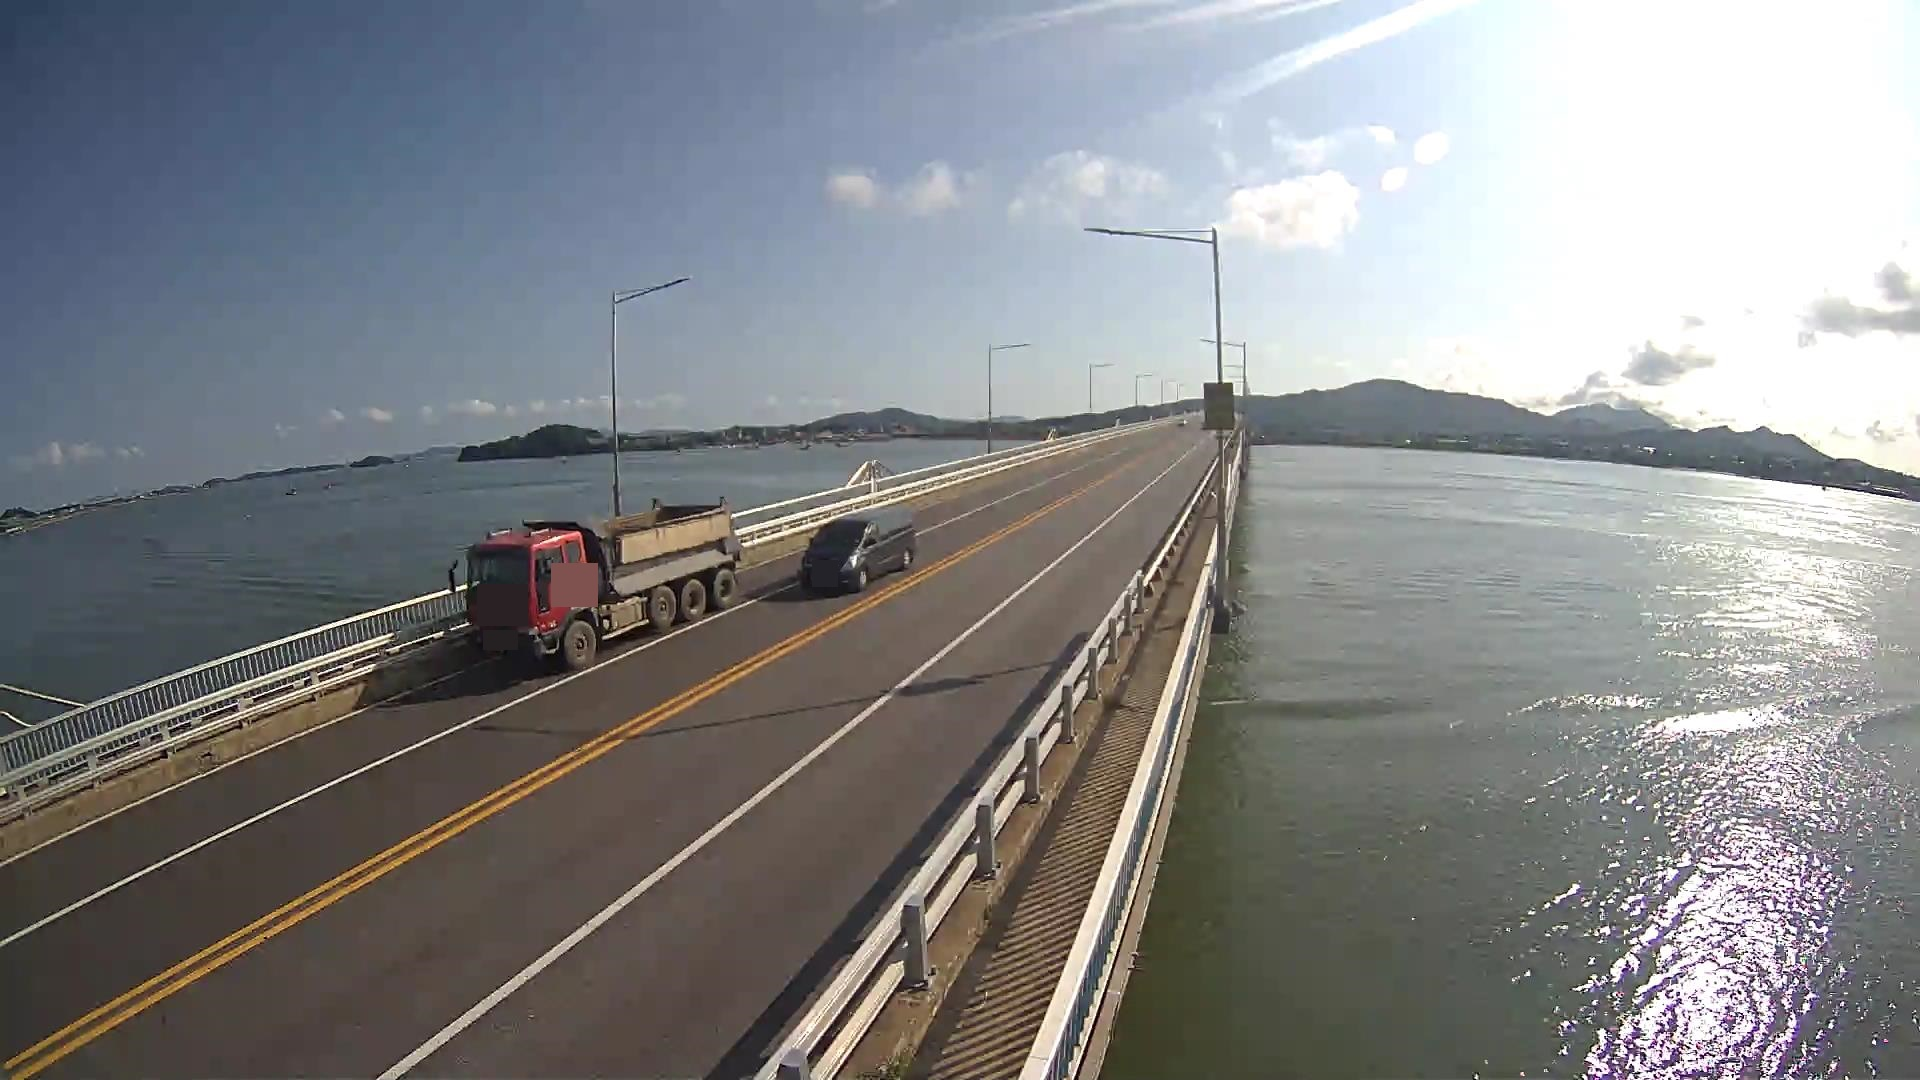정상차량: (448, 496, 742, 667)
